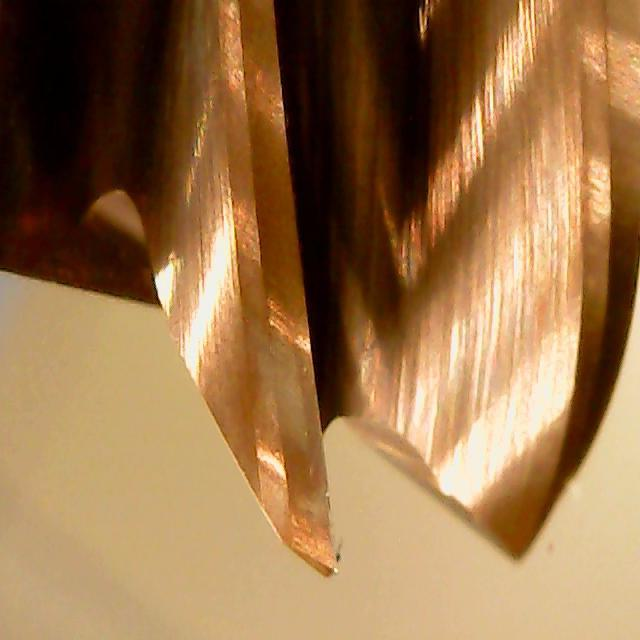Tool-wear-class-0: (211, 215, 353, 582)
